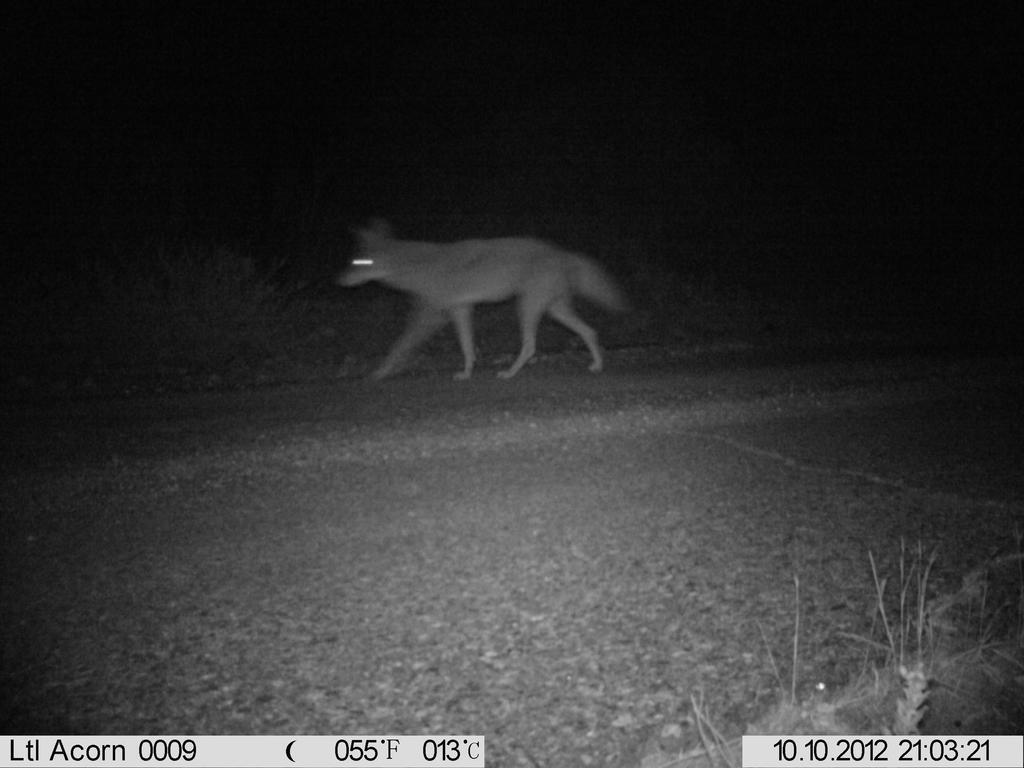coyote: (331, 213, 629, 388)
